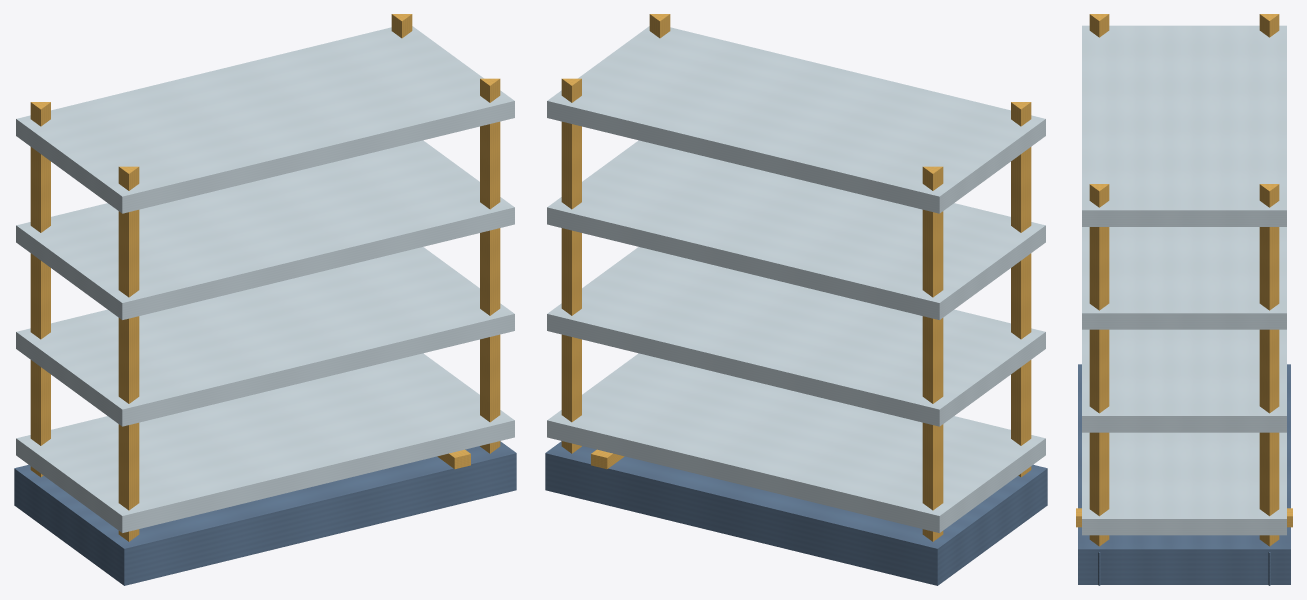
The model's file is atlas100-s054-a06.lod2.glb.
3 views of the same model, side by side, from view 1: azimuth 30°, elevation 25°; view 2: azimuth 150°, elevation 25°; view 3: azimuth 270°, elevation 25° (orthographic). The views are drawn at different scales.
Visible parts, largest first — view 1: atlas100-s054-a06:part-014, atlas100-s054-a06:part-013, atlas100-s054-a06:part-012, atlas100-s054-a06:part-011, atlas100-s054-a06:part-000, atlas100-s054-a06:part-005, atlas100-s054-a06:part-009, atlas100-s054-a06:part-003; view 2: atlas100-s054-a06:part-014, atlas100-s054-a06:part-013, atlas100-s054-a06:part-012, atlas100-s054-a06:part-011, atlas100-s054-a06:part-000, atlas100-s054-a06:part-003, atlas100-s054-a06:part-007, atlas100-s054-a06:part-005; view 3: atlas100-s054-a06:part-014, atlas100-s054-a06:part-011, atlas100-s054-a06:part-012, atlas100-s054-a06:part-013, atlas100-s054-a06:part-000, atlas100-s054-a06:part-007, atlas100-s054-a06:part-009, atlas100-s054-a06:part-003, atlas100-s054-a06:part-005.
Boxes of the visible parts, x1,y1,x2,y2 form: atlas100-s054-a06:part-014: [16, 26, 514, 213]; atlas100-s054-a06:part-013: [16, 140, 514, 319]; atlas100-s054-a06:part-012: [16, 247, 514, 426]; atlas100-s054-a06:part-011: [16, 353, 514, 532]; atlas100-s054-a06:part-000: [14, 441, 516, 585]; atlas100-s054-a06:part-005: [118, 166, 139, 541]; atlas100-s054-a06:part-009: [480, 78, 500, 453]; atlas100-s054-a06:part-003: [30, 102, 50, 477]; atlas100-s054-a06:part-014: [547, 26, 1045, 213]; atlas100-s054-a06:part-013: [547, 140, 1045, 319]; atlas100-s054-a06:part-012: [547, 247, 1045, 426]; atlas100-s054-a06:part-011: [547, 353, 1045, 532]; atlas100-s054-a06:part-000: [545, 441, 1047, 585]; atlas100-s054-a06:part-003: [922, 166, 943, 541]; atlas100-s054-a06:part-007: [561, 78, 581, 453]; atlas100-s054-a06:part-005: [1011, 102, 1031, 477]; atlas100-s054-a06:part-014: [1082, 25, 1286, 226]; atlas100-s054-a06:part-011: [1082, 432, 1286, 535]; atlas100-s054-a06:part-012: [1082, 329, 1286, 432]; atlas100-s054-a06:part-013: [1082, 227, 1286, 329]; atlas100-s054-a06:part-000: [1078, 364, 1290, 584]; atlas100-s054-a06:part-007: [1259, 184, 1279, 546]; atlas100-s054-a06:part-009: [1089, 184, 1109, 546]; atlas100-s054-a06:part-003: [1259, 14, 1279, 37]; atlas100-s054-a06:part-005: [1089, 14, 1109, 37].
Size of the model in its own units: 2.89 by 2.84 by 1.43.
3 materials, 3 textured.
